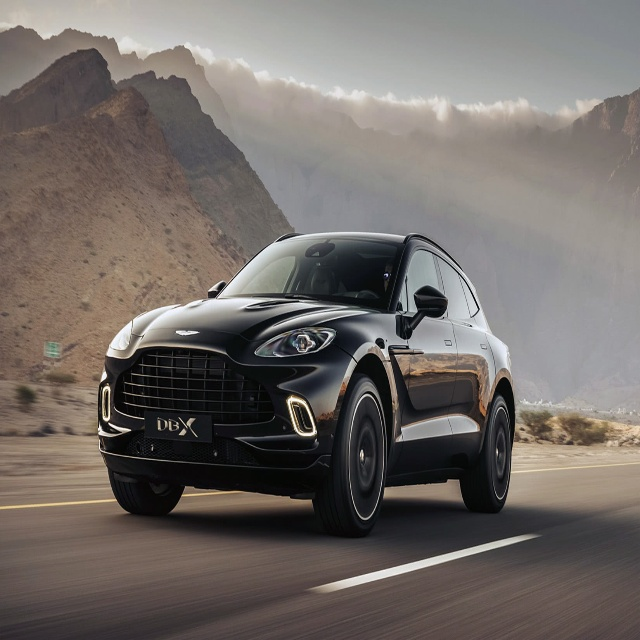Car: (97, 231, 516, 538)
